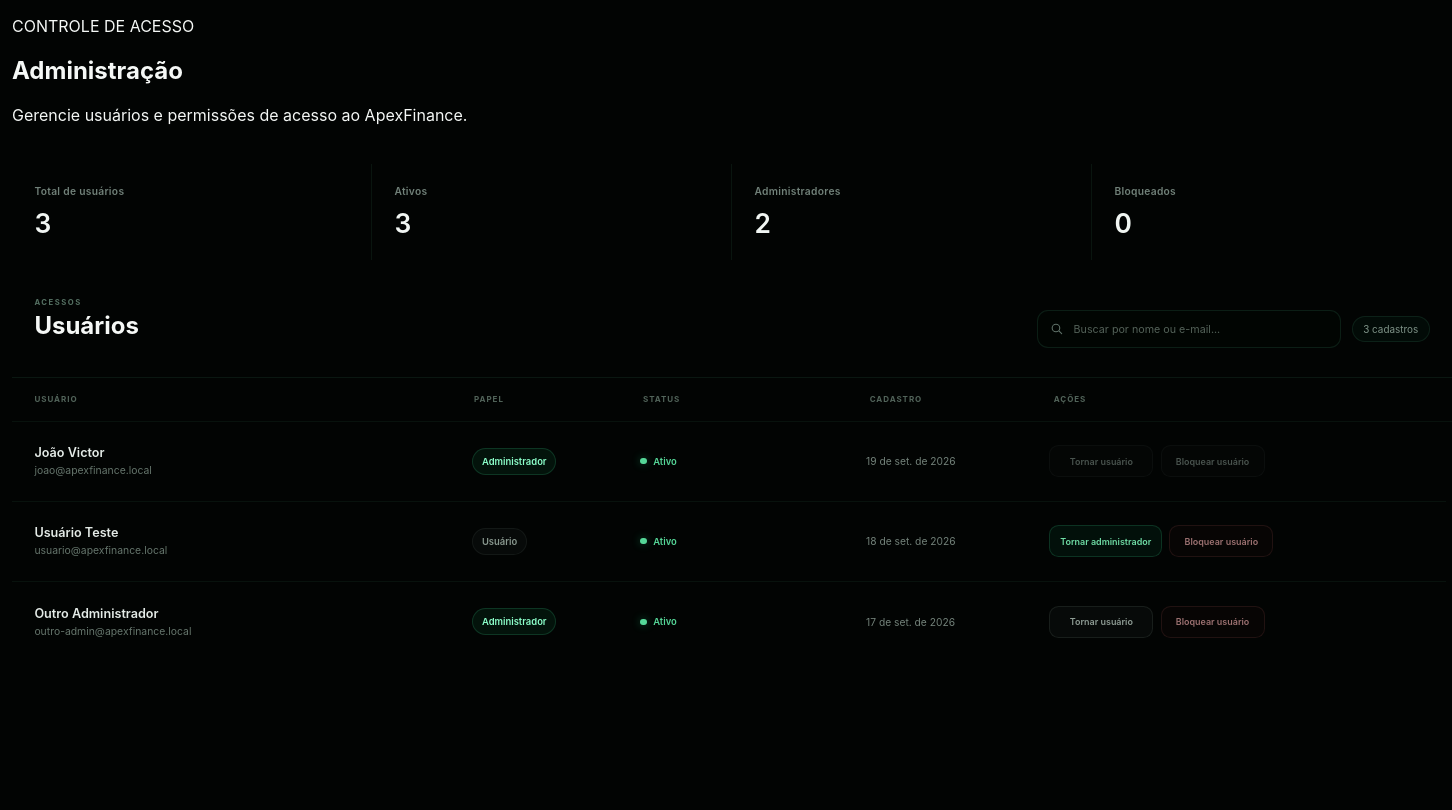
Gerenciamento de papéis na Administração › permite promover USER para ADMIN e atualiza a interface
Expected: the list item "Usuário Teste" is shown, [34,525,118,540]
Click the button "Tornar administrador" at (1106, 541), box [1049,525,1162,557]
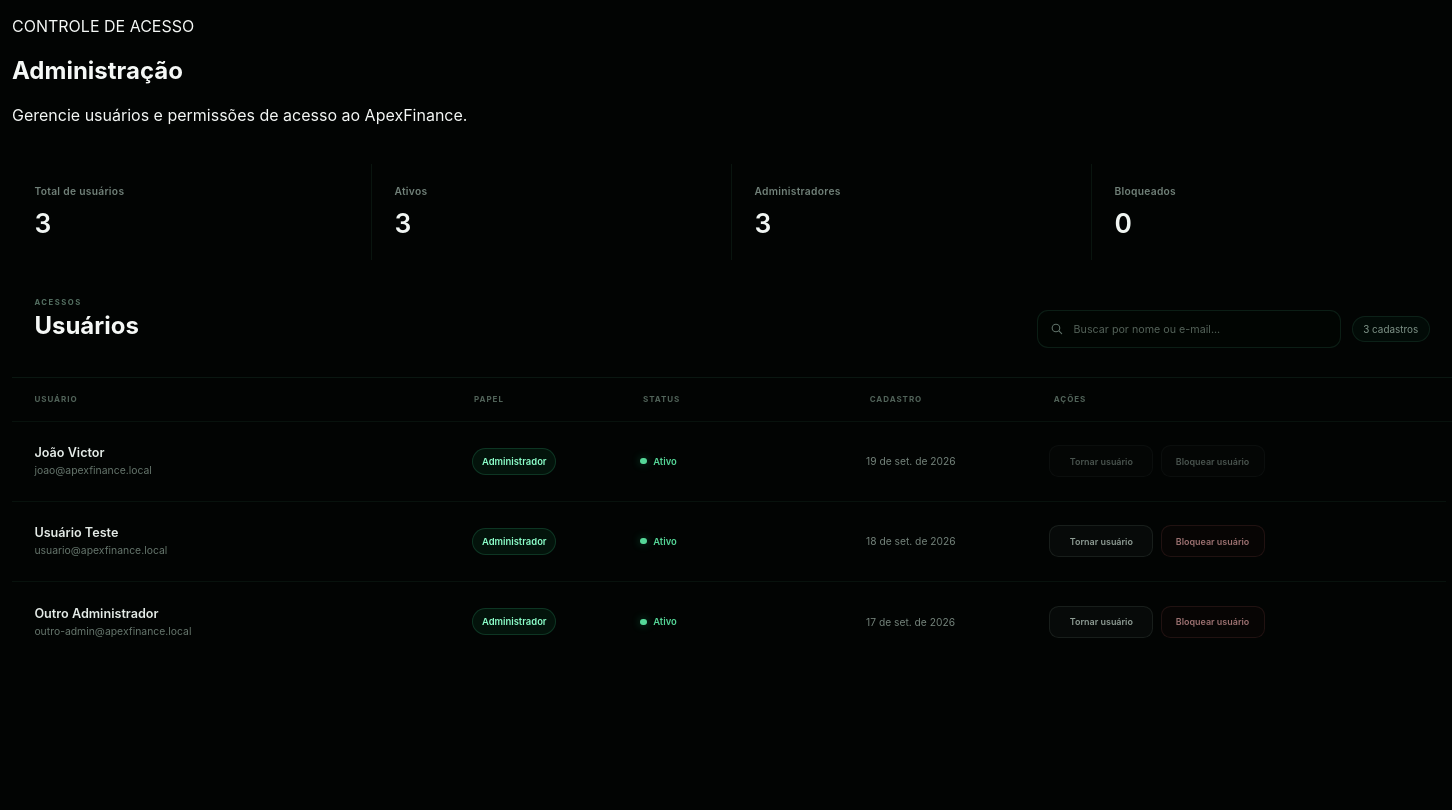
Now the text "Administrador" in the row of "Usuário Teste" is shown, box [482,536,547,547]
